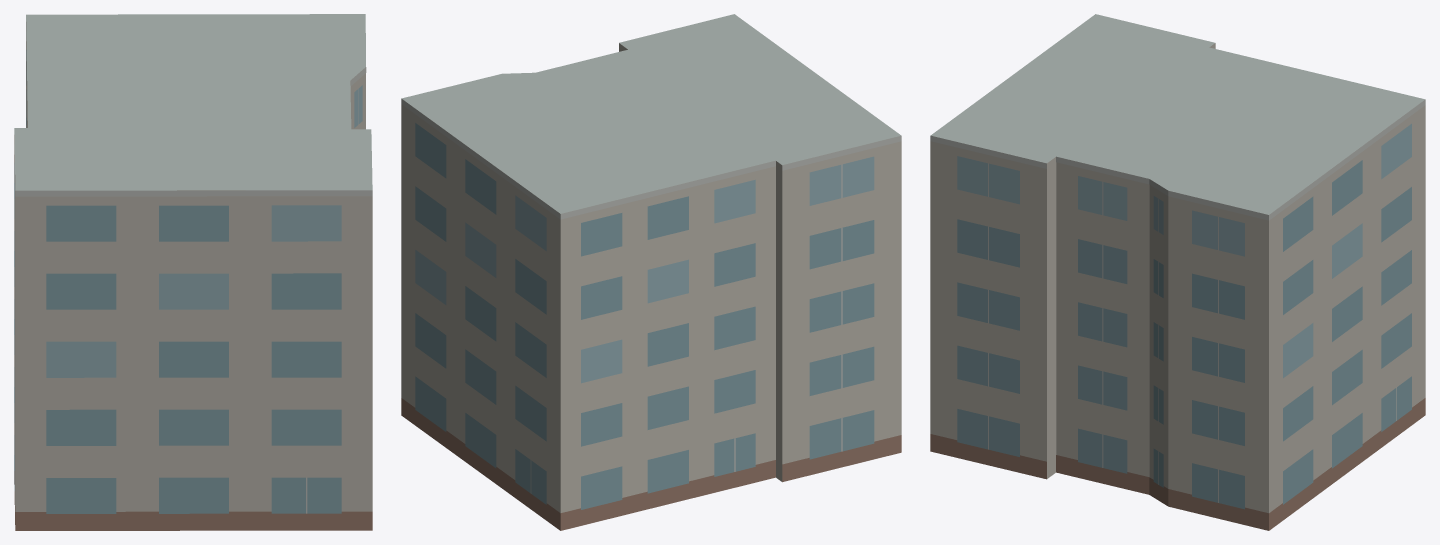
Rendered from survey-upis-32883597.glb.
3 views of the same model, side by side, from view 1: azimuth 30°, elevation 25°; view 2: azimuth 150°, elevation 25°; view 3: azimuth 270°, elevation 25° (orthographic). The views are drawn at different scales.
Visible parts, largest first — view 1: survey-upis-32883597.tmp; view 2: survey-upis-32883597.tmp; view 3: survey-upis-32883597.tmp.
Boxes of the visible parts, x1,y1,x2,y2 form: survey-upis-32883597.tmp: (14, 14, 372, 530); survey-upis-32883597.tmp: (401, 14, 901, 530); survey-upis-32883597.tmp: (930, 14, 1425, 530).
Size of the model in its own units: 18.7 by 13.7 by 19.47.
